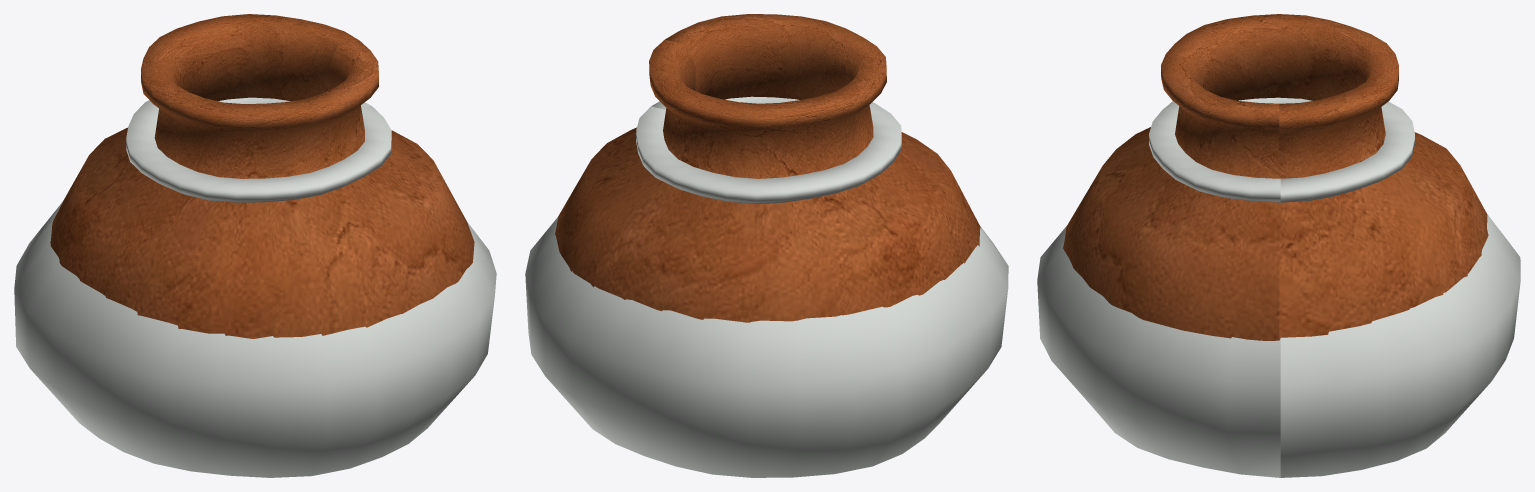
The model's file is prop_pots.glb.
3 views of the same model, side by side, from view 1: azimuth 30°, elevation 25°; view 2: azimuth 150°, elevation 25°; view 3: azimuth 270°, elevation 25° (orthographic).
Visible parts, largest first — view 1: clay_rice_pot, aluminium_handi; view 2: clay_rice_pot, aluminium_handi; view 3: clay_rice_pot, aluminium_handi.
Boxes of the visible parts, x1,y1,x2,y2 form: clay_rice_pot: [50, 14, 474, 338]; aluminium_handi: [14, 97, 496, 477]; clay_rice_pot: [555, 14, 980, 322]; aluminium_handi: [525, 96, 1008, 477]; clay_rice_pot: [1063, 14, 1488, 340]; aluminium_handi: [1037, 97, 1520, 477].
Bounding box in the file's own units: 0.38 × 0.3 × 0.38.
Materials: 3 (1 with a texture image).
